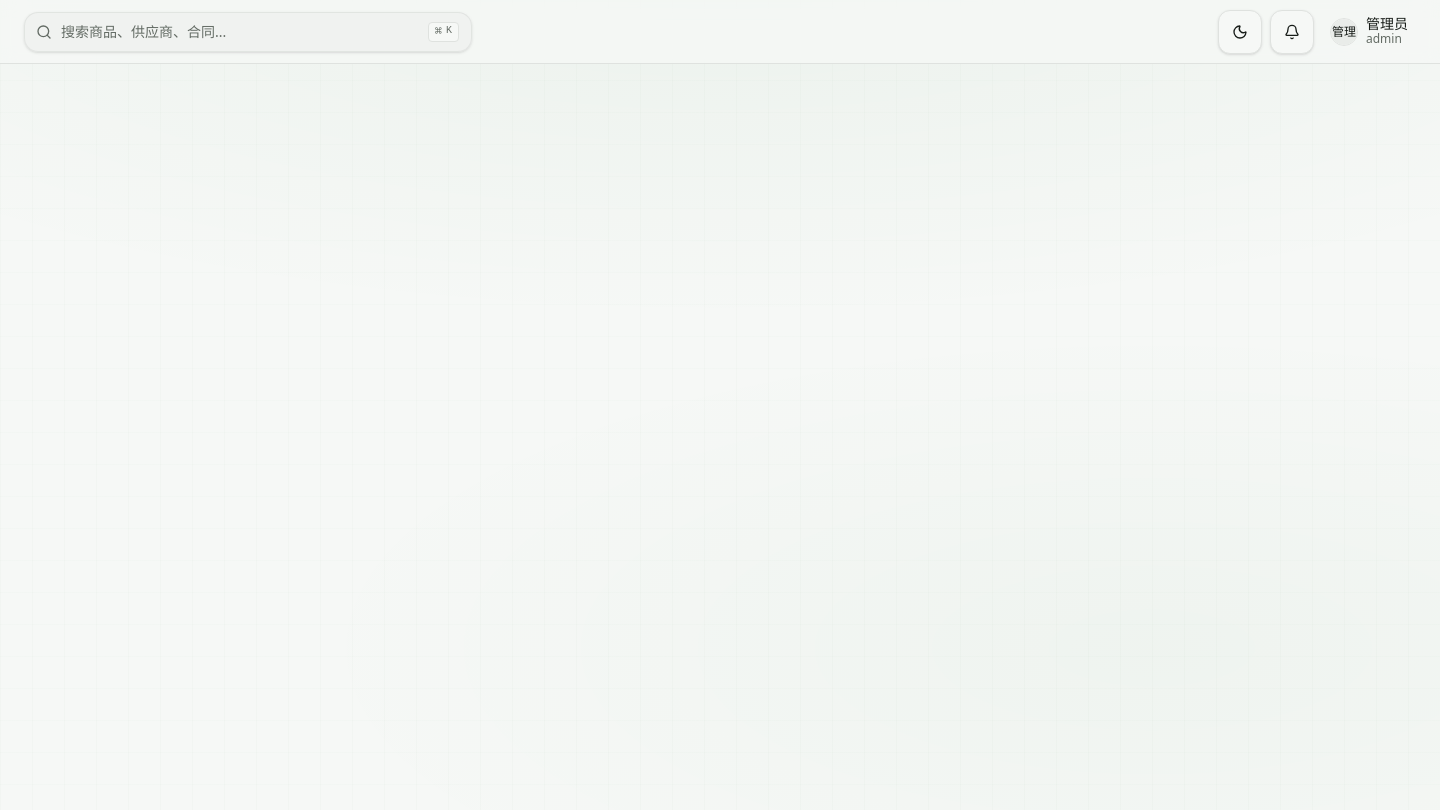
Header › 点击搜索结果后按结果映射跳转并清空输入
Click the button "搜索商品、供应商、合同... ⌘ K": (248, 32) top-left (24, 12), bottom-right (472, 52)
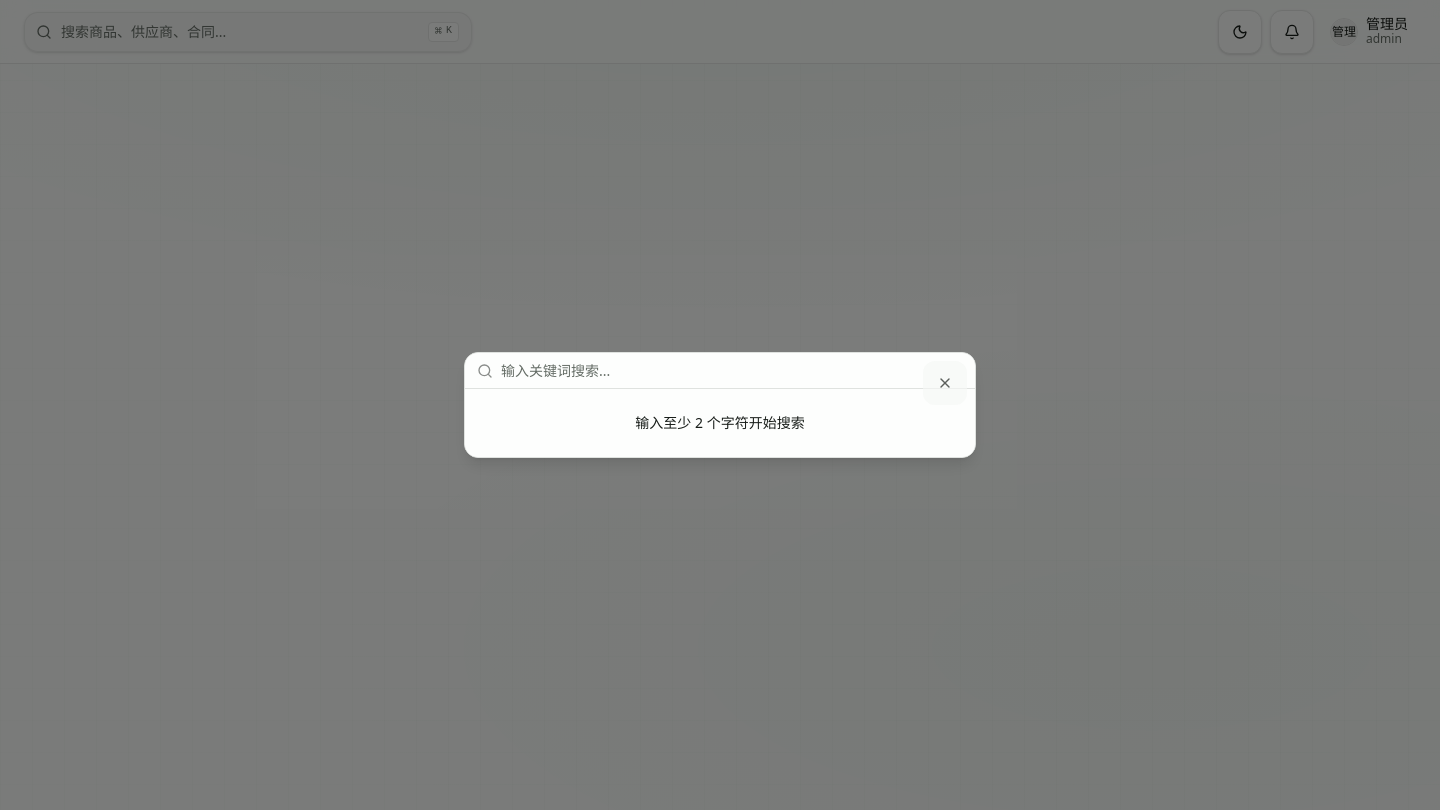
In the dropdown with placeholder "输入关键词搜索...": (732, 370) top-left (501, 350), bottom-right (963, 390), type "瓷砖"
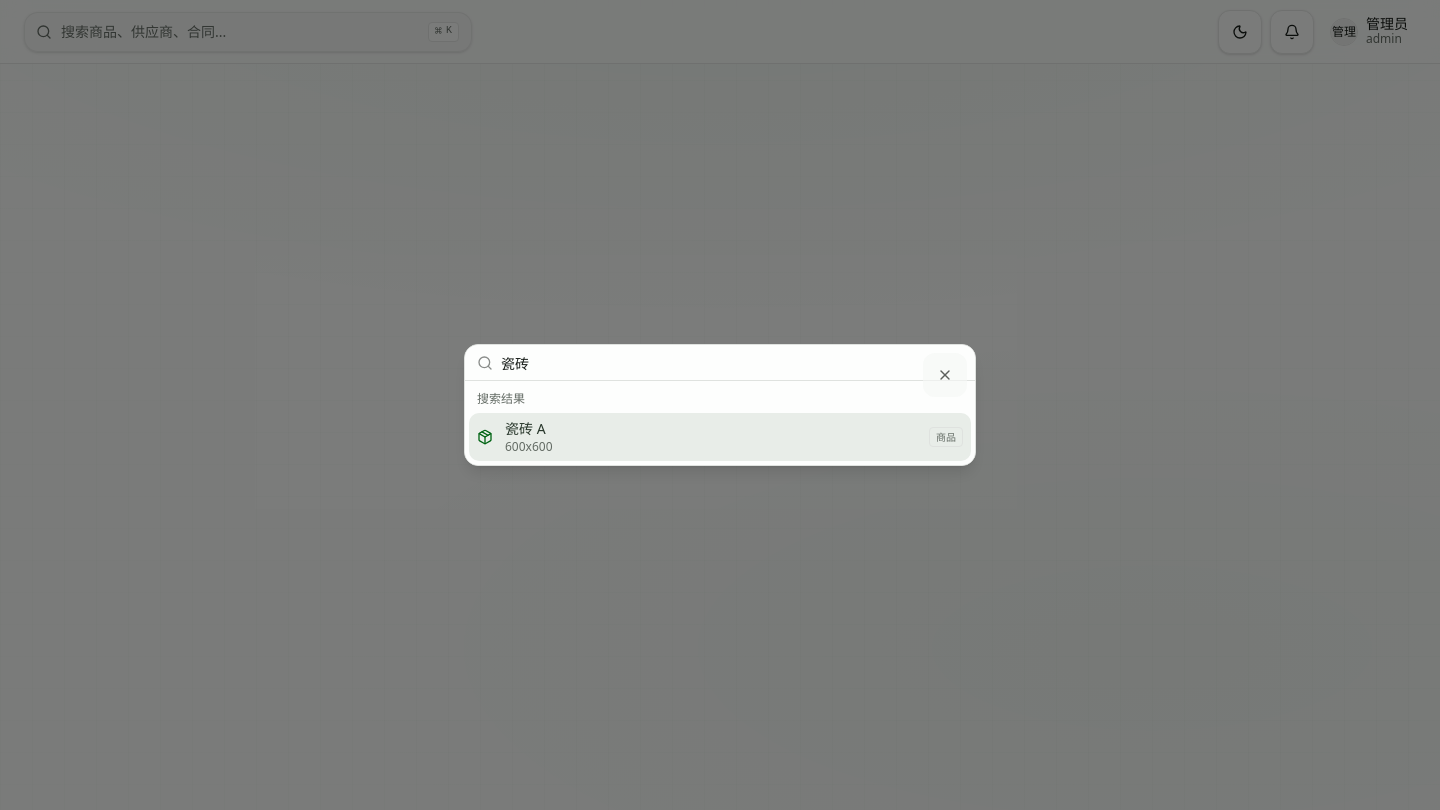
Click the text "瓷砖 A": (525, 428) top-left (505, 419), bottom-right (546, 438)
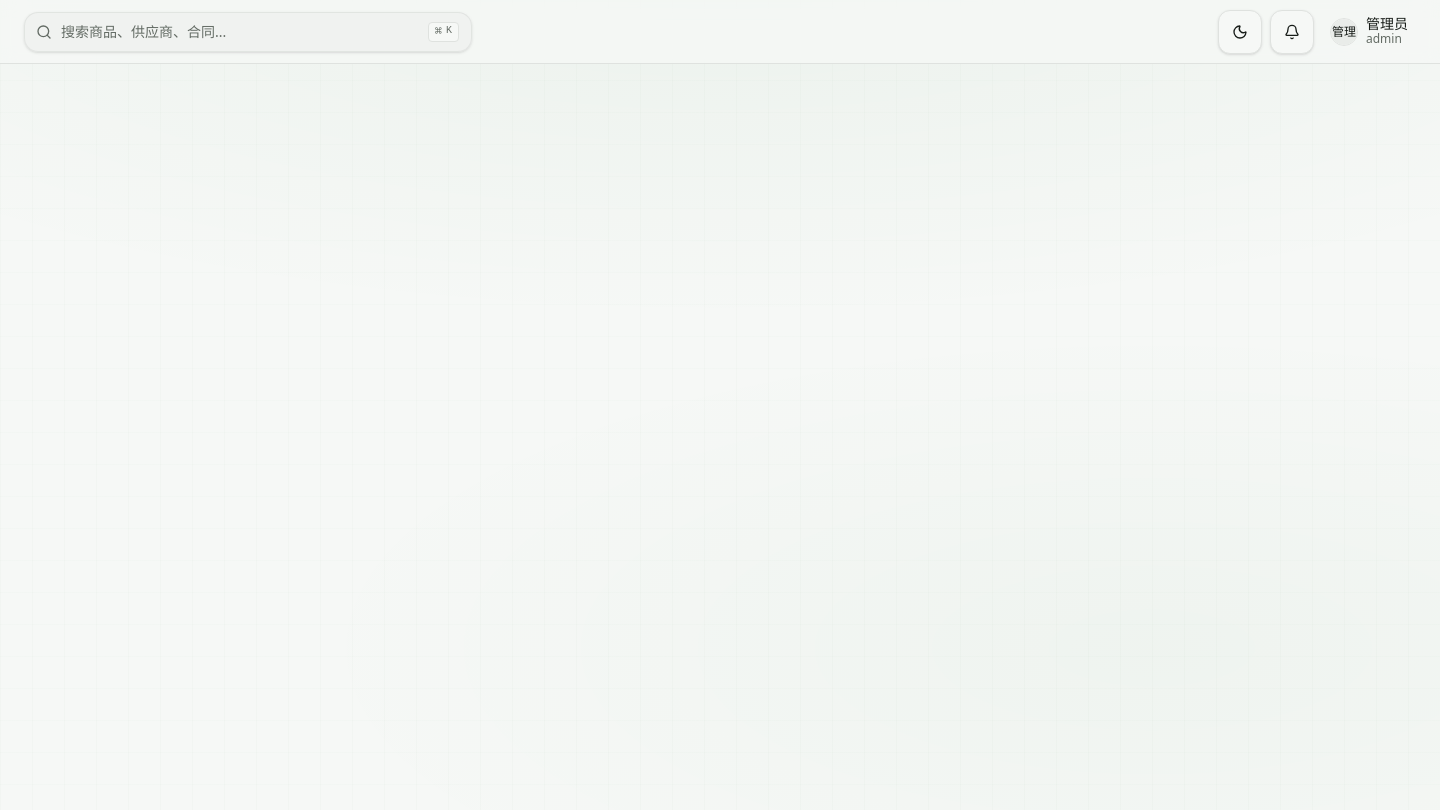
Result: the dropdown with placeholder "输入关键词搜索..." is gone
